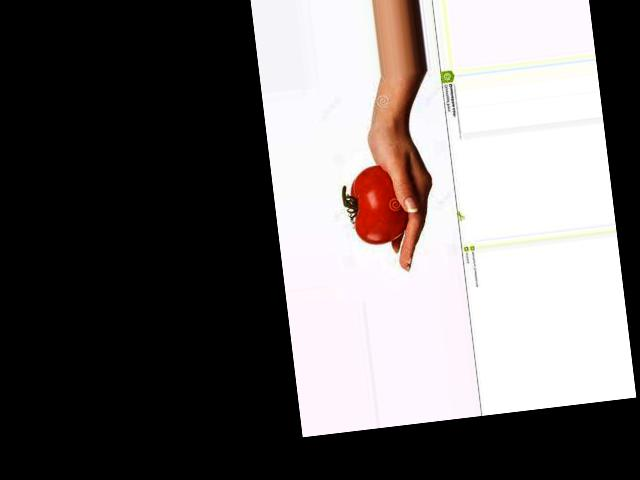tomato: (347, 162, 410, 247)
